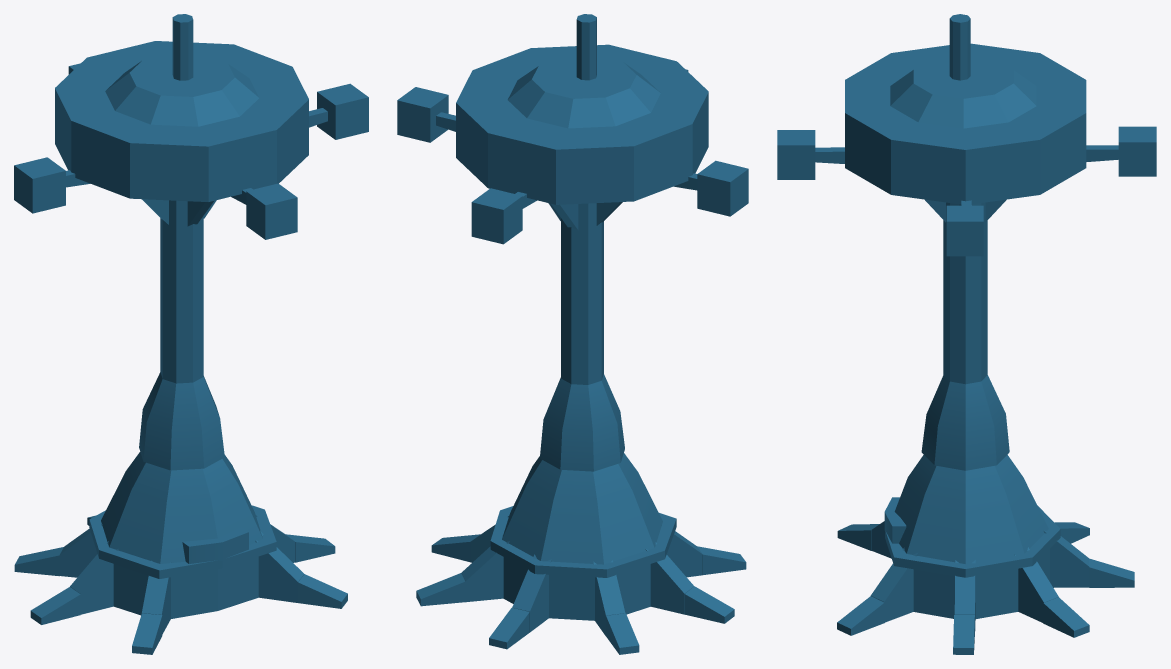
The model's file is SM_Bld_Background_12_Collision.fbx.
The picture shows the model from 3 angles, left to right: view 1: azimuth 30°, elevation 25°; view 2: azimuth 150°, elevation 25°; view 3: azimuth 270°, elevation 25°; orthographic projection.
Visible parts, largest first — view 1: SM_Bld_Background_12_Collision; view 2: SM_Bld_Background_12_Collision; view 3: SM_Bld_Background_12_Collision.
Boxes of the visible parts, x1,y1,x2,y2 form: SM_Bld_Background_12_Collision: (14,14,368,654); SM_Bld_Background_12_Collision: (397,14,748,654); SM_Bld_Background_12_Collision: (777,14,1156,654).
Bounding box in the file's own units: 3878 × 6280 × 3827.
